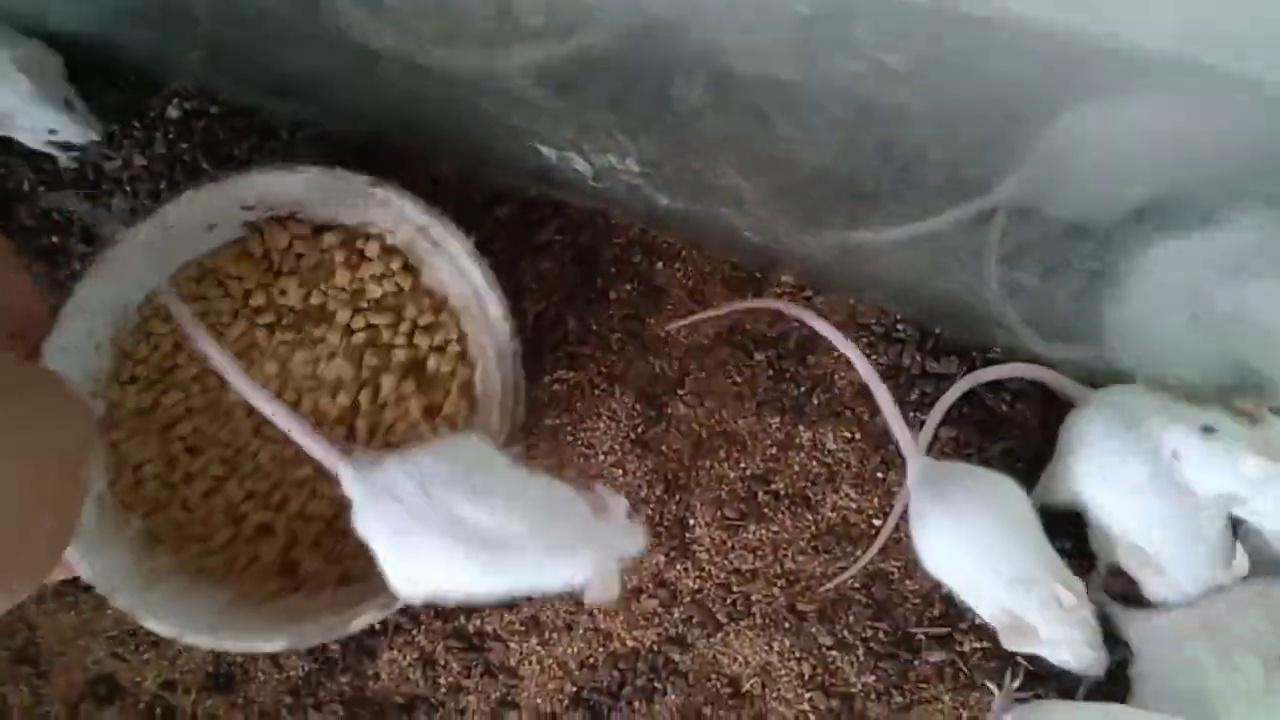rat: (666, 299, 1112, 676), (164, 295, 652, 606), (819, 360, 1240, 602), (1149, 403, 1280, 559), (0, 22, 104, 168)
